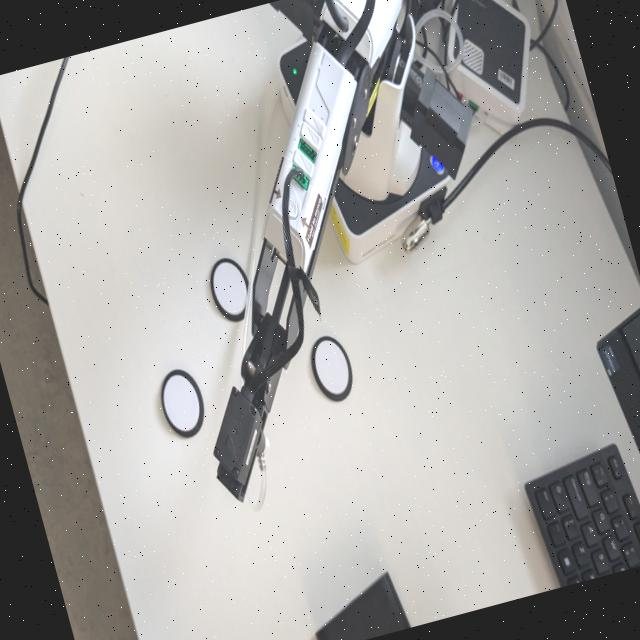Robot-end-effector-HF8z: (190, 376, 283, 511)
